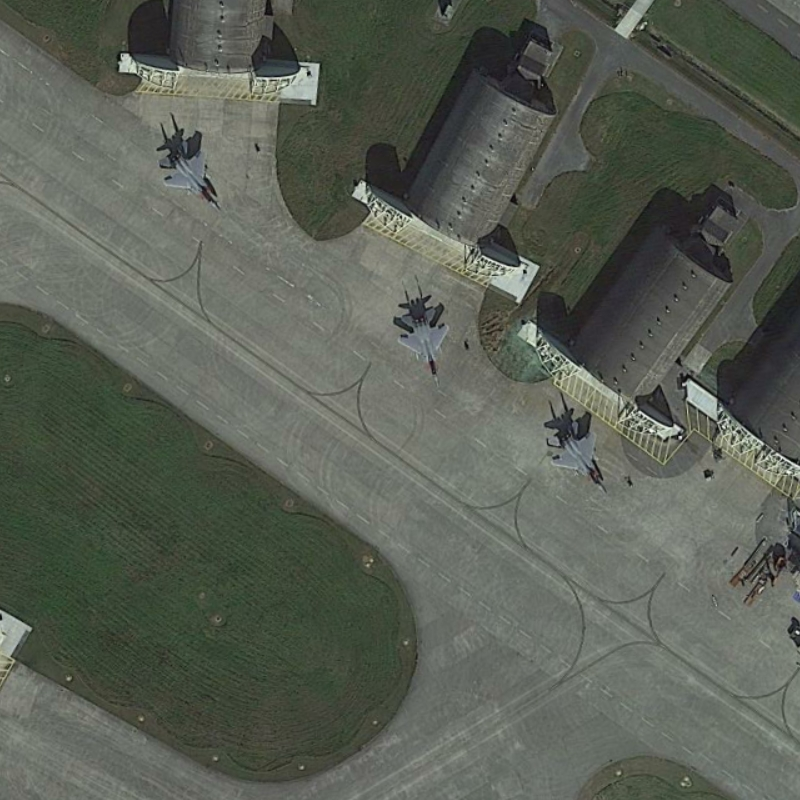A13: (540, 409, 619, 503), (382, 300, 455, 390), (149, 139, 228, 218)
